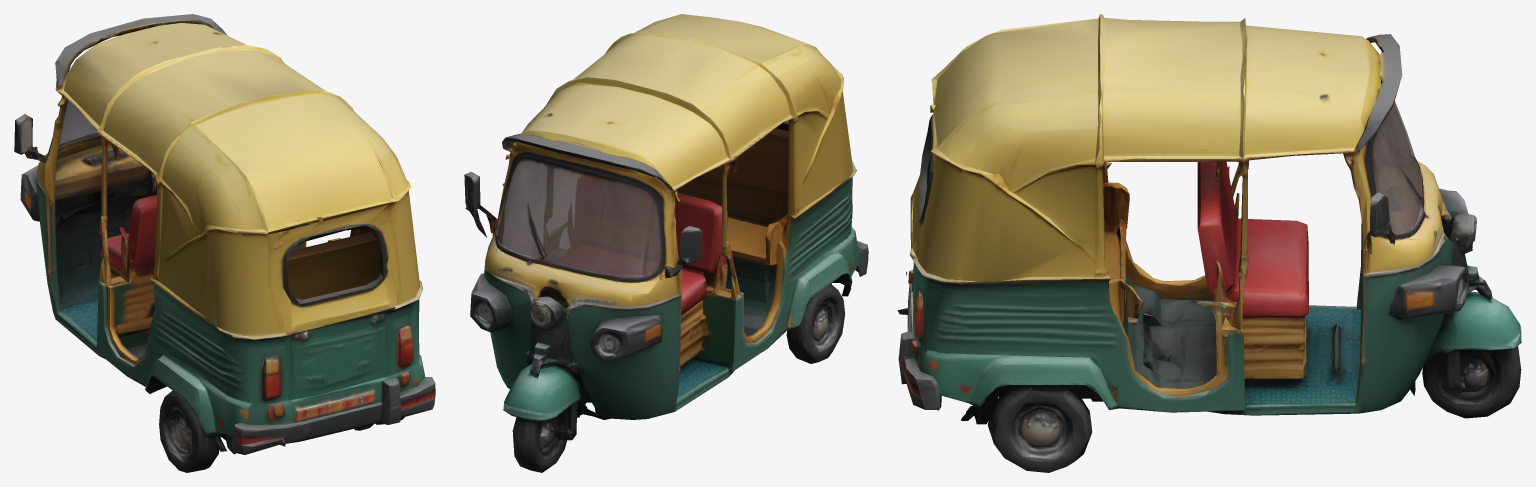
The model's file is auto.glb.
3 views of the same model, side by side, from view 1: azimuth 30°, elevation 25°; view 2: azimuth 150°, elevation 25°; view 3: azimuth 270°, elevation 25° (orthographic). The views are drawn at different scales.
Visible parts, largest first — view 1: Autorickshaw; view 2: Autorickshaw; view 3: Autorickshaw.
Boxes of the visible parts, x1,y1,x2,y2 form: Autorickshaw: (14, 14, 435, 472); Autorickshaw: (464, 14, 868, 472); Autorickshaw: (897, 14, 1521, 472).
Size of the model in its own units: 1.28 by 1.63 by 2.47.
1 material, 1 textured.
